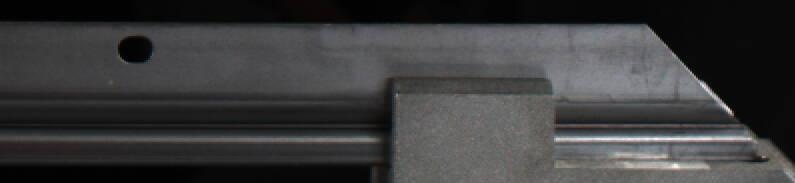cut: (574, 22, 768, 166)
holes: (115, 33, 155, 63)
